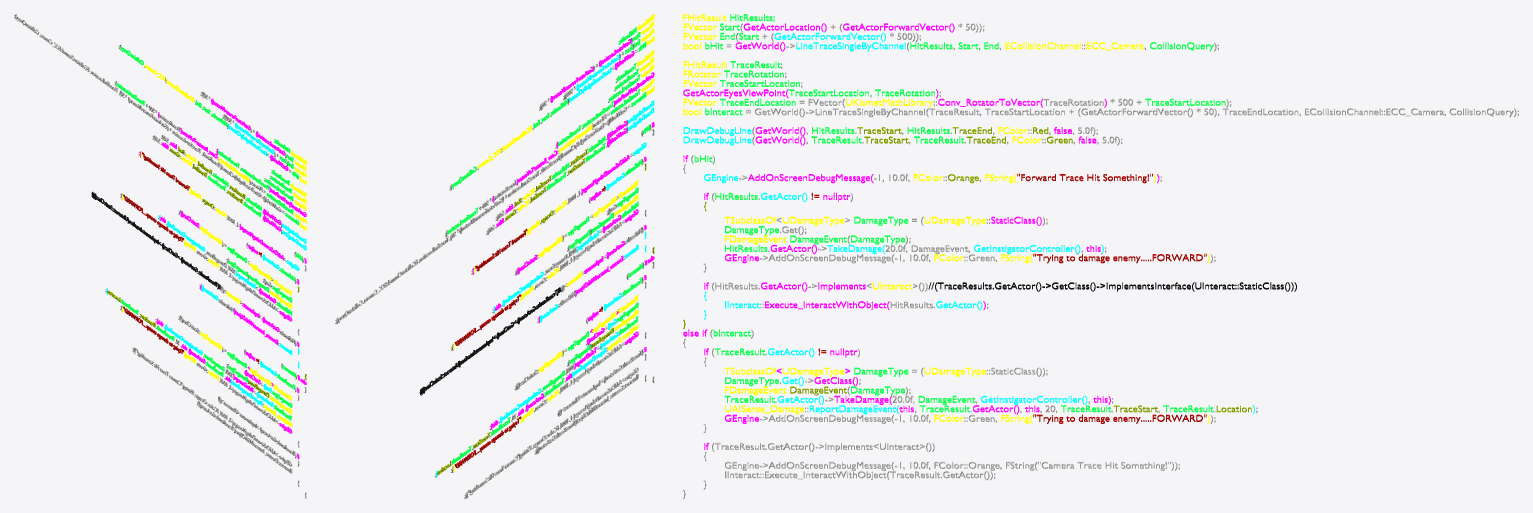
Rendered from 3dCode_t.glb.
The picture shows the model from 3 angles, left to right: view 1: azimuth 30°, elevation 25°; view 2: azimuth 150°, elevation 25°; view 3: azimuth 270°, elevation 25°; orthographic projection. The views are drawn at different scales.
Parts seen in each view (by area): view 1: Else; view 2: Else; view 3: Else.
Boxes of the visible parts, x1=… form: Else: x1=14, y1=14, x2=306, y2=498; Else: x1=335, y1=14, x2=654, y2=498; Else: x1=683, y1=14, x2=1518, y2=498.
Bounding box in the file's own units: 0.0255 × 7.77 × 12.16.
